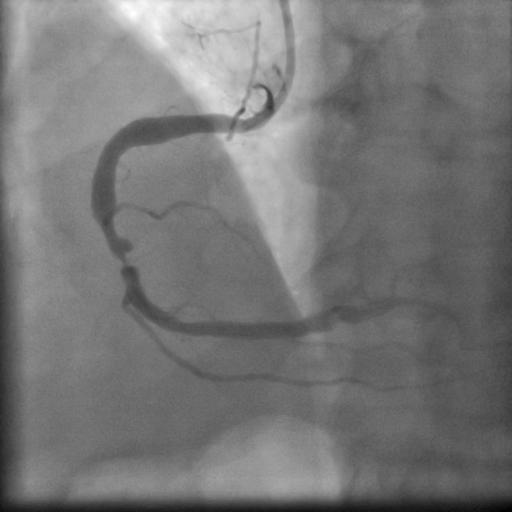Stenosis: (109, 245, 141, 274)
